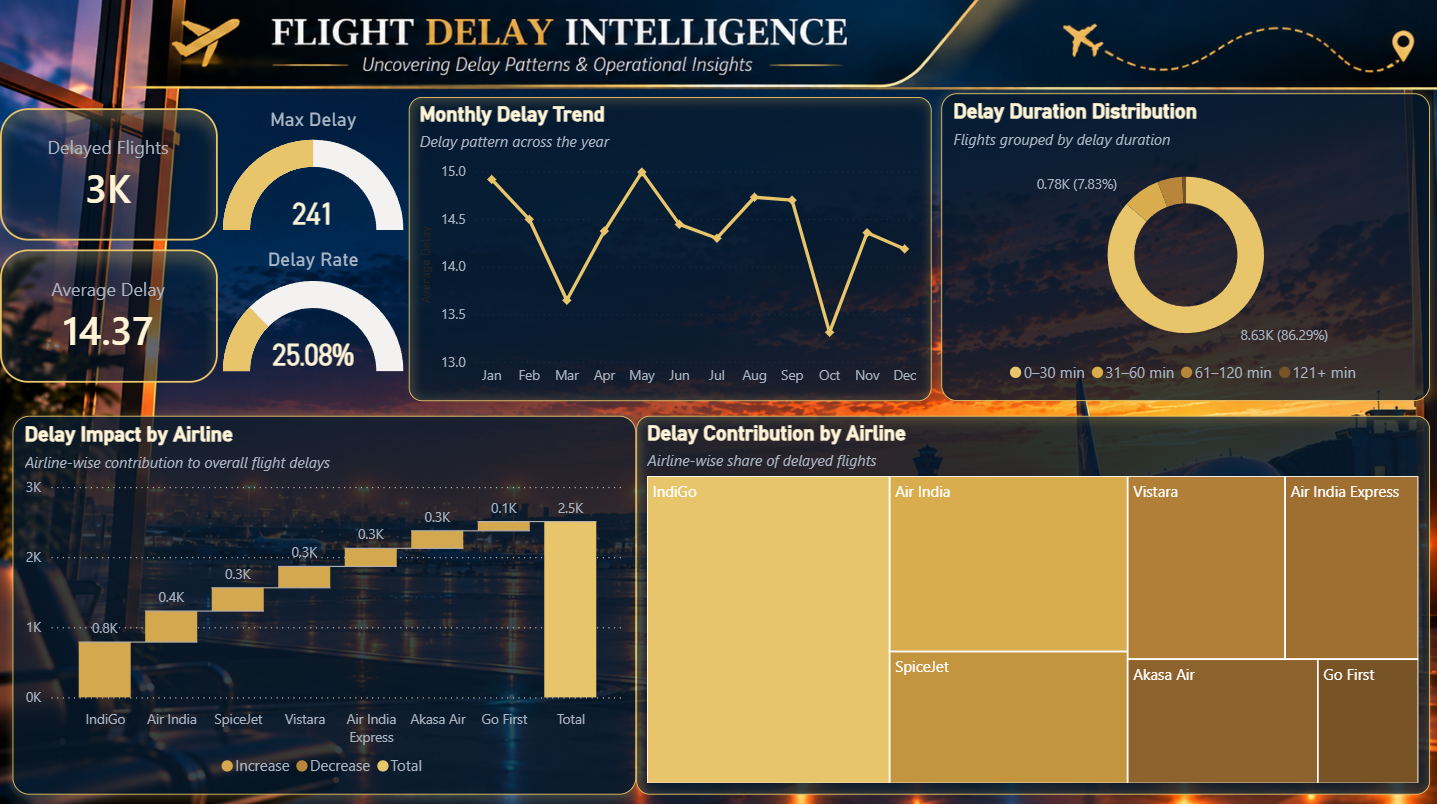

Layout of this report page (visuals, bound fields, positions):
{"tool":"powerbi","page":{"name":"Flight Delay Intelligence","canvas":[1280,720],"ordinal":3},"visuals":[{"type":"image","box":[0,0,1280,720],"z":0},{"type":"cardVisual","title":"Flights","fields":{"Data":["Flight_Data.Delayed Flights"]},"box":[0,98.7,193.3,117.4],"z":1000},{"type":"lineChart","title":"Monthly Delay Trend","fields":{"Category":["Date_Table.Month"],"Y":["Flight_Data.Average Delay"]},"box":[363.7,88.3,464.6,270.2],"z":2000},{"type":"waterfallChart","title":"Delay Impact by Airline","fields":{"Category":["Flight_Data.Airline"],"Y":["Flight_Data.Delayed Flights"]},"box":[11.1,372.2,554.4,336.7],"z":3000},{"type":"gauge","title":"Max Delay","fields":{"Y":["Flight_Data.Maximum Delay"]},"box":[193.3,98.7,170.4,117.4],"z":4000},{"type":"gauge","title":"Delay Rate","fields":{"Y":["Flight_Data.Delay Rate"]},"box":[193.3,223.4,170.4,119.5],"z":5000},{"type":"cardVisual","title":"Flights","fields":{"Data":["Flight_Data.Average Delay"]},"box":[0,224.5,193.3,118.5],"z":6000},{"type":"donutChart","title":"Delay Duration Distribution","fields":{"Category":["Flight_Data.Delay Duration Group"],"Y":["CountNonNull(Flight_Data.Flight_ID)"]},"box":[836.6,85.2,434.4,273.3],"z":7000},{"type":"treemap","title":"Delay Contribution by Airline","fields":{"Group":["Flight_Data.Airline"],"Values":["Flight_Data.Delayed Flights"]},"box":[565.6,372.2,705.6,336.7],"z":8000}]}

Visuals, with their boxes in screenshot pixels (x1, y1, x2, y2), scaled from the page's 1280x720 canvas onto the 1437x804 screenshot:
image: left=0, top=0, right=1436, bottom=803
"Flights" cardVisual: left=0, top=110, right=217, bottom=241
"Monthly Delay Trend" lineChart: left=408, top=99, right=930, bottom=400
"Delay Impact by Airline" waterfallChart: left=12, top=416, right=635, bottom=792
"Max Delay" gauge: left=217, top=110, right=408, bottom=241
"Delay Rate" gauge: left=217, top=249, right=408, bottom=383
"Flights" cardVisual: left=0, top=251, right=217, bottom=383
"Delay Duration Distribution" donutChart: left=939, top=95, right=1427, bottom=400
"Delay Contribution by Airline" treemap: left=635, top=416, right=1427, bottom=792
